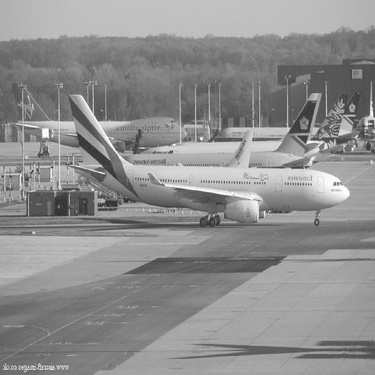airplane: (36, 88, 357, 237), (116, 85, 326, 185), (4, 75, 192, 150), (203, 87, 366, 159), (340, 70, 374, 160)
